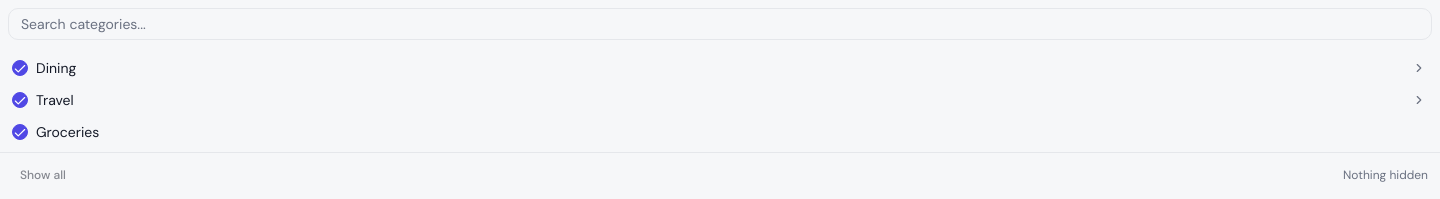
Test: CategoryFilterList › narrows to matching categories when searching
Type "trav" into the field with placeholder "Search categories..." at [720, 24], box [8,8,1432,40]
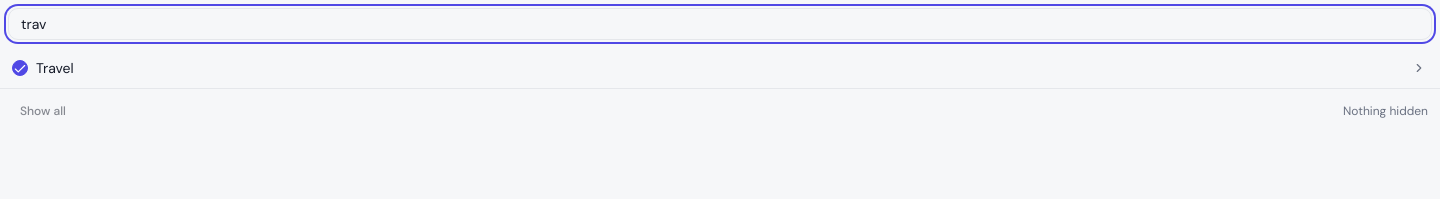
Expected: the checkbox named "Travel" is shown, [12,60,28,76]
Expected: the label "Dining" is gone
